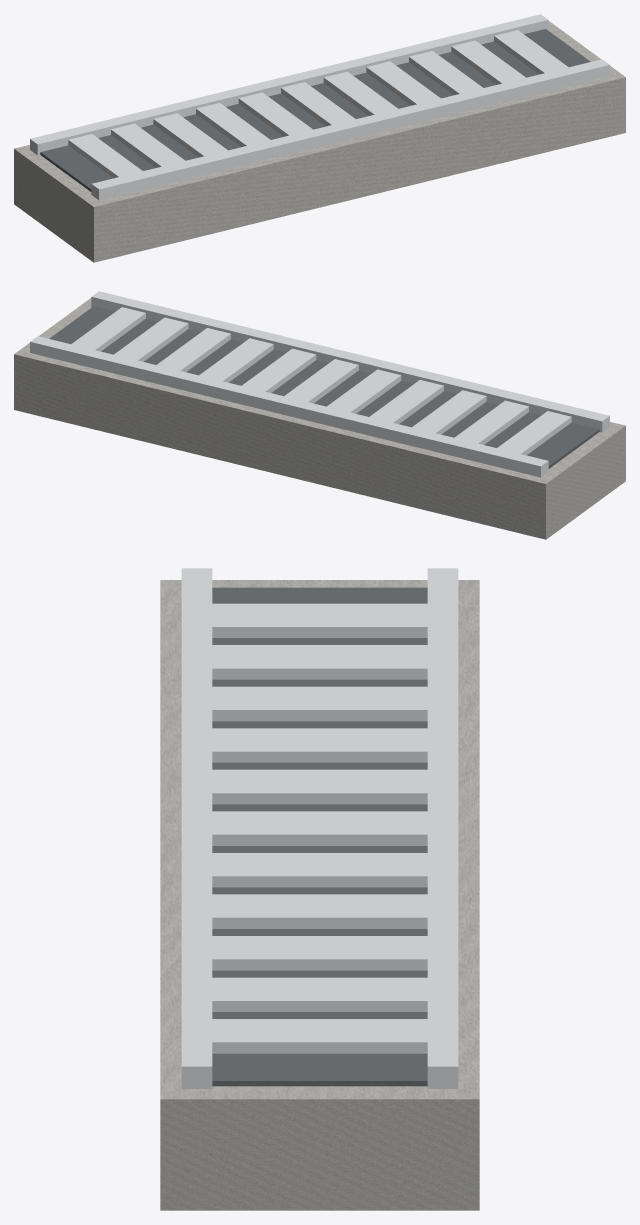
The model's file is recycling-and-waste-transfer-yard-recycling-and-waste--3f21046f__34920.glb.
3 views of the same model, one above another, from view 1: azimuth 30°, elevation 25°; view 2: azimuth 150°, elevation 25°; view 3: azimuth 270°, elevation 25° (orthographic). The views are drawn at different scales.
Parts seen in each view (by area): view 1: recycling-and-waste-transfer-yard-drainage-channel-grate; view 2: recycling-and-waste-transfer-yard-drainage-channel-grate; view 3: recycling-and-waste-transfer-yard-drainage-channel-grate.
Boxes of the visible parts, left/top/right/bottom form: recycling-and-waste-transfer-yard-drainage-channel-grate: left=14, top=14, right=625, bottom=262; recycling-and-waste-transfer-yard-drainage-channel-grate: left=14, top=291, right=625, bottom=539; recycling-and-waste-transfer-yard-drainage-channel-grate: left=160, top=568, right=479, bottom=1210.
Size of the model in its own units: 2 by 0.24 by 0.5201.
3 materials, 1 textured.
